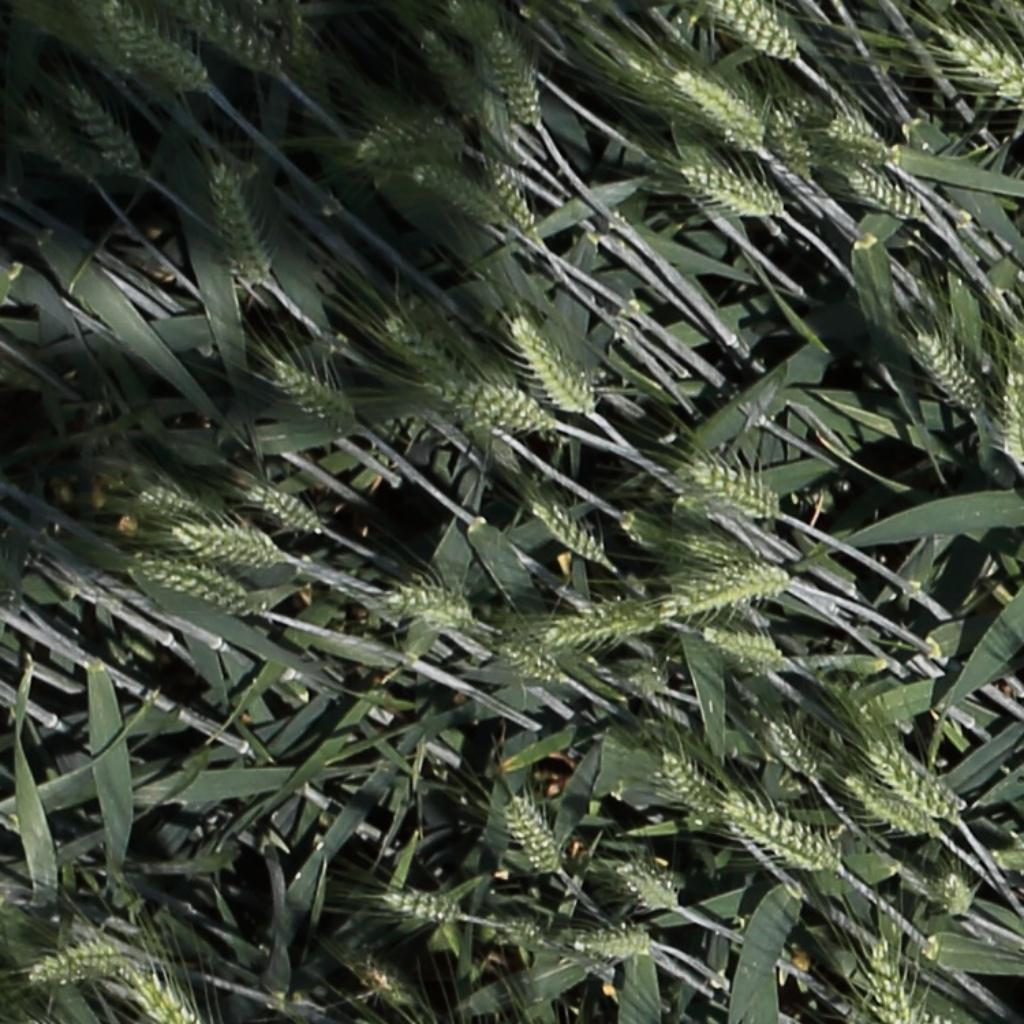0-0: (384, 314, 517, 437), (674, 70, 785, 166), (509, 312, 604, 422), (103, 4, 219, 92), (643, 558, 803, 621), (206, 161, 278, 294), (354, 106, 483, 177), (865, 742, 969, 827), (62, 80, 150, 174), (947, 36, 1024, 140), (724, 804, 840, 872), (268, 354, 367, 433), (909, 327, 991, 422), (678, 163, 796, 228), (118, 959, 234, 1024), (483, 21, 550, 131), (141, 561, 265, 620), (537, 597, 675, 650), (192, 8, 292, 81), (447, 373, 565, 432), (413, 23, 485, 119), (477, 151, 548, 248), (689, 462, 797, 525), (413, 162, 510, 232), (26, 931, 138, 991), (527, 498, 615, 573), (712, 1, 809, 69), (173, 520, 298, 572), (763, 93, 834, 181), (382, 578, 484, 636), (843, 776, 941, 836), (19, 103, 97, 177), (653, 749, 726, 827), (244, 483, 339, 541), (501, 794, 562, 878), (847, 169, 934, 225), (865, 933, 912, 1024), (761, 716, 819, 787), (613, 864, 686, 915), (495, 639, 569, 687), (133, 488, 221, 528), (993, 364, 1024, 476), (701, 630, 789, 669), (569, 923, 659, 961), (496, 907, 546, 959), (827, 116, 891, 156), (380, 894, 467, 922), (940, 868, 969, 921)
